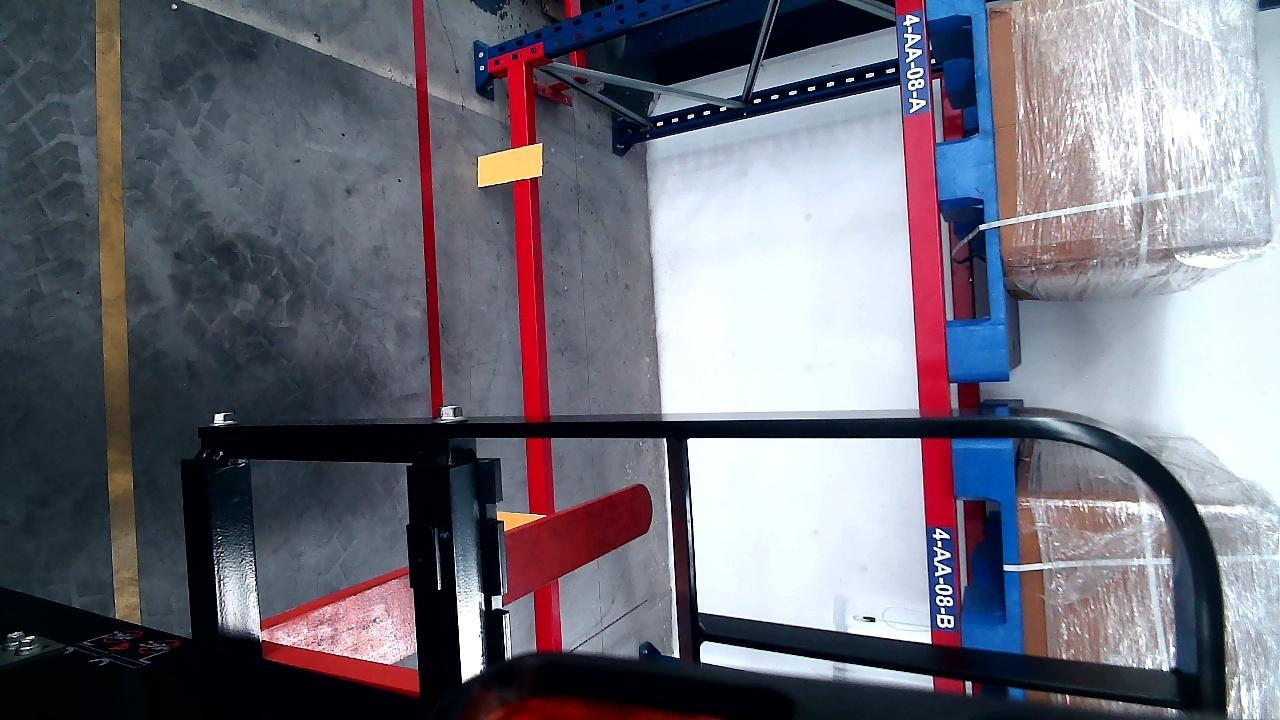red_line: (414, 0, 446, 423)
